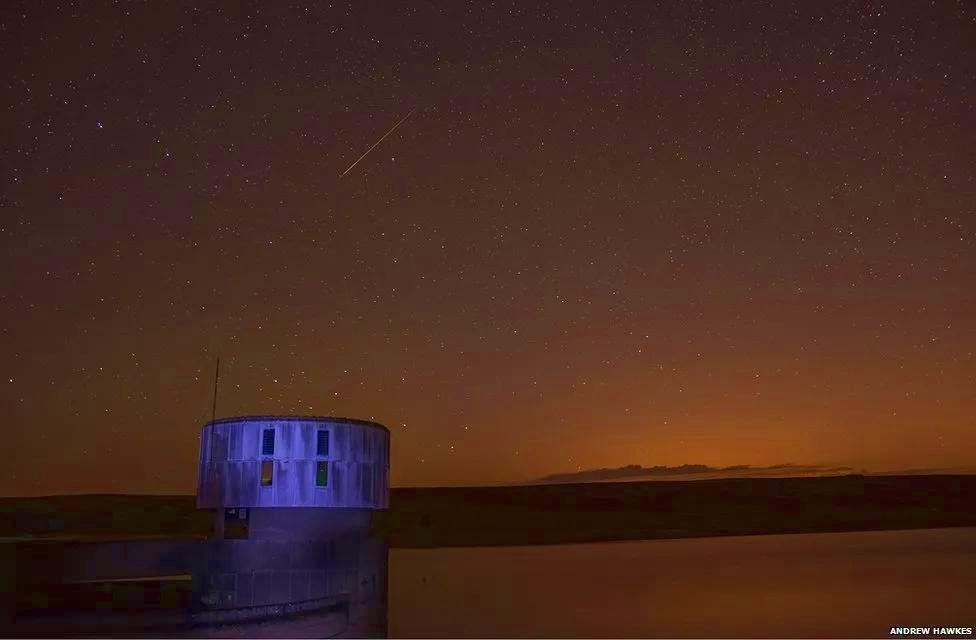meteorite: (332, 100, 426, 186)
